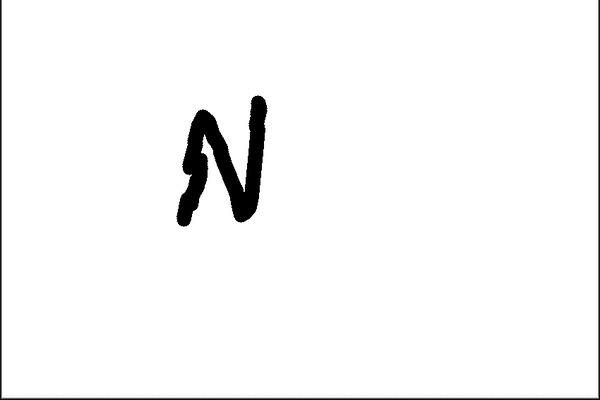N: (171, 89, 273, 230)
